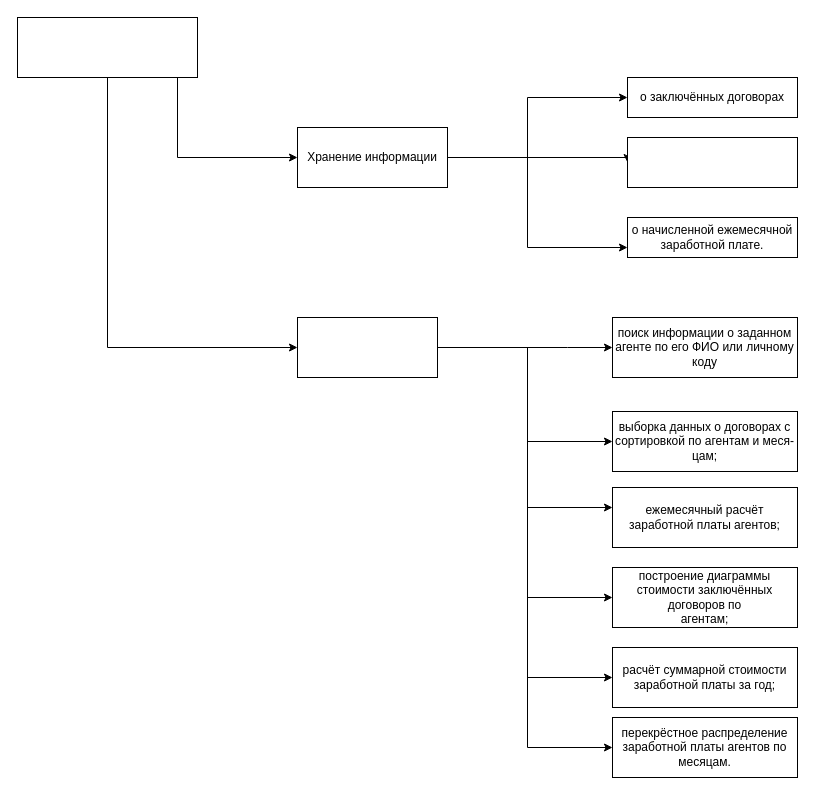
The diagram is 815 pixels wide and 795 high, and some of its shapes have lost their labels. Each missing label, with the box of its shape:
АРМ бухгалтера по учету работы страховых агентов: (16, 16, 198, 78)
Вывод информации по запросу пользователя:: (296, 316, 438, 378)
об агентах и условиях их работы (процент комиссионных): (626, 136, 798, 188)
